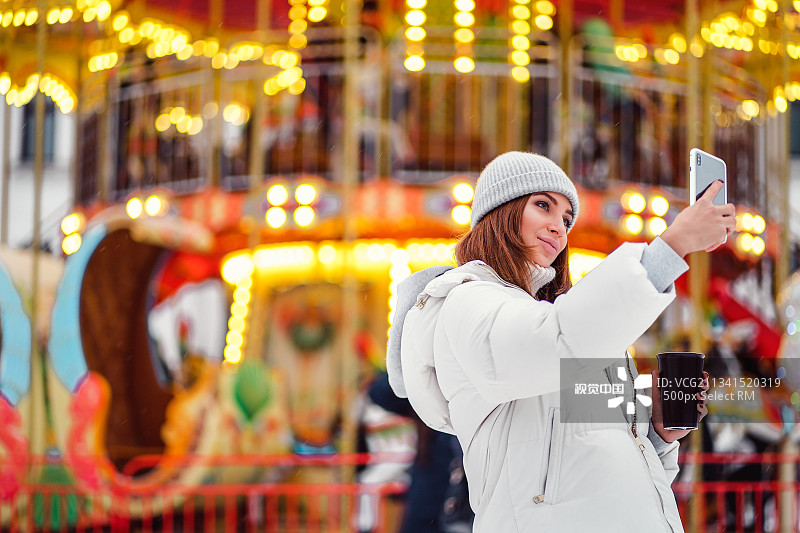taking photos: (649, 135, 747, 264)
